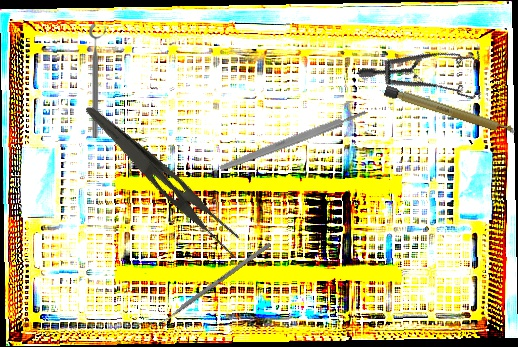Dressing Forceps: (68, 103, 256, 263)
Fixation Ring: (89, 24, 107, 138)
Pusher: (148, 241, 272, 334)
Scalpel Handle: (218, 108, 368, 173), (383, 85, 517, 138)
Speculum: (356, 18, 499, 143)
